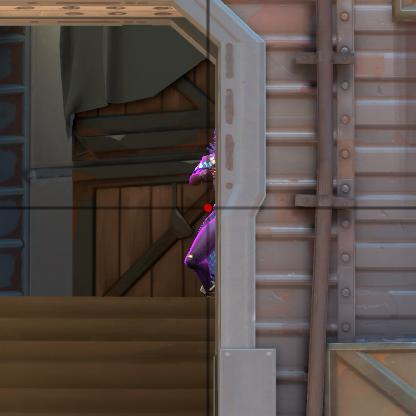enemyBody: (197, 144, 215, 281)
